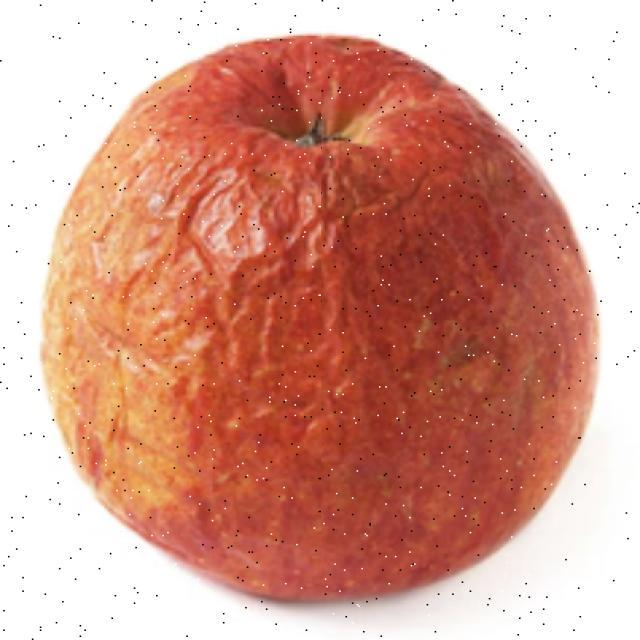Rotten: (75, 48, 590, 570)
